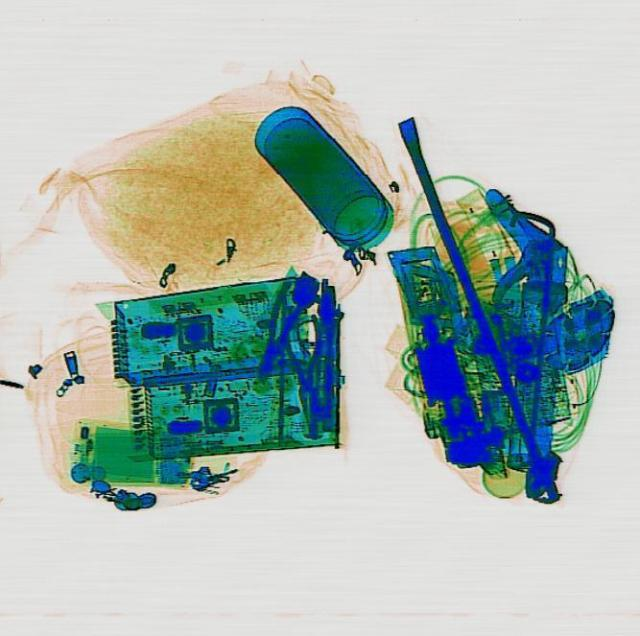Pliers: (242, 278, 310, 376), (280, 302, 328, 432)
